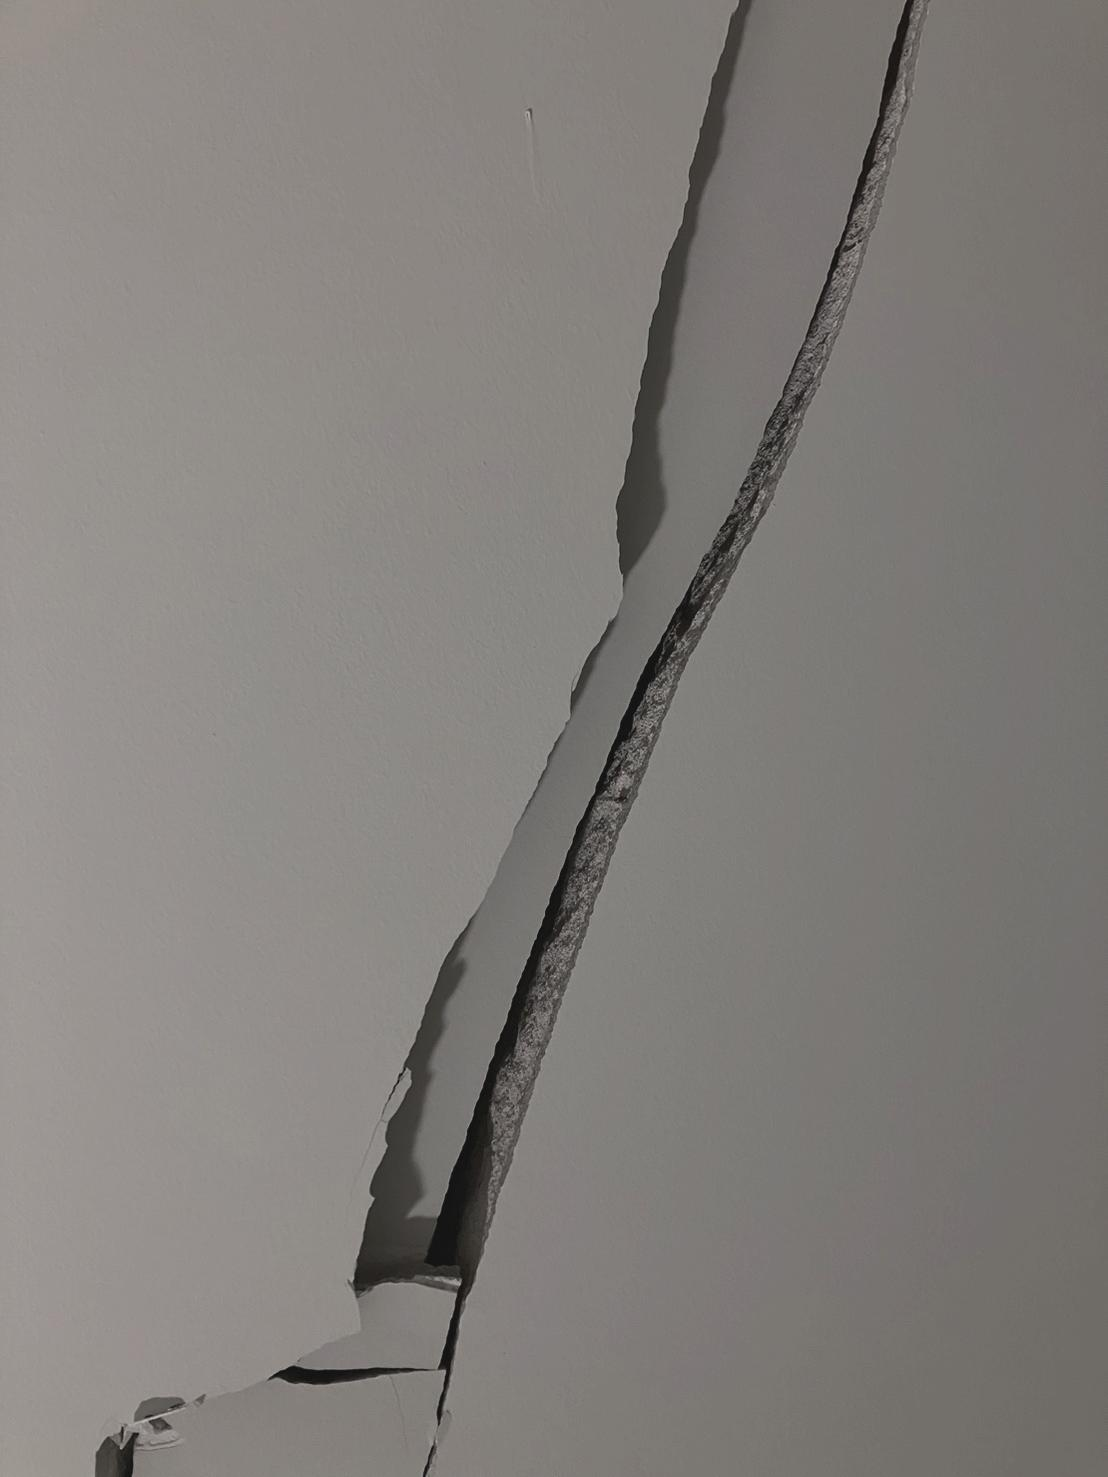High: (81, 1, 933, 1477)
